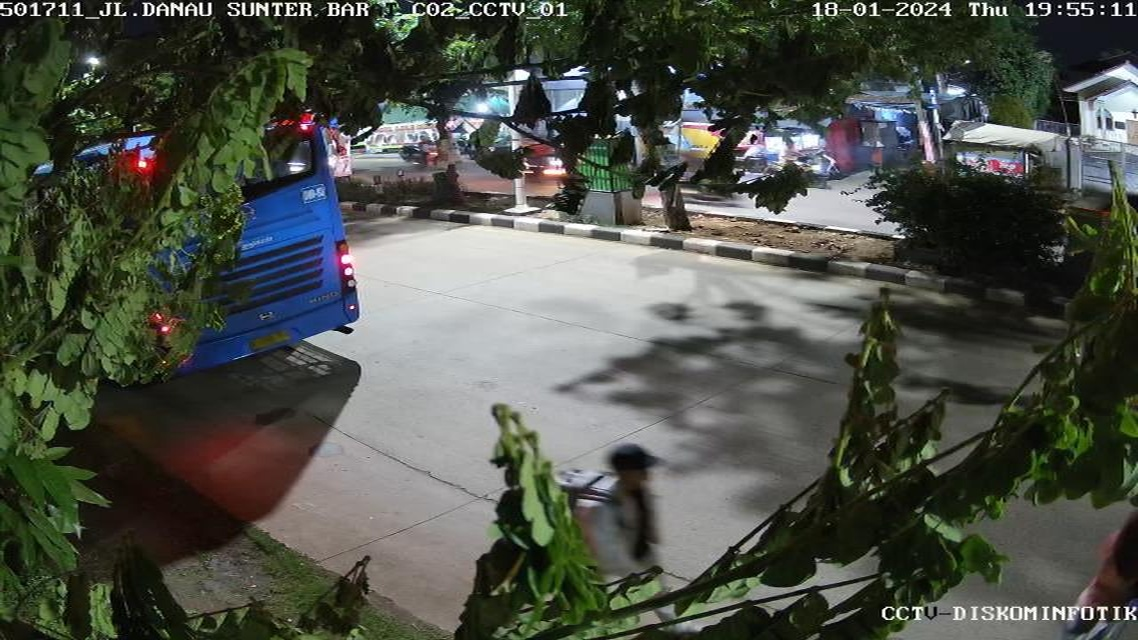Gerobak: (761, 121, 828, 173)
